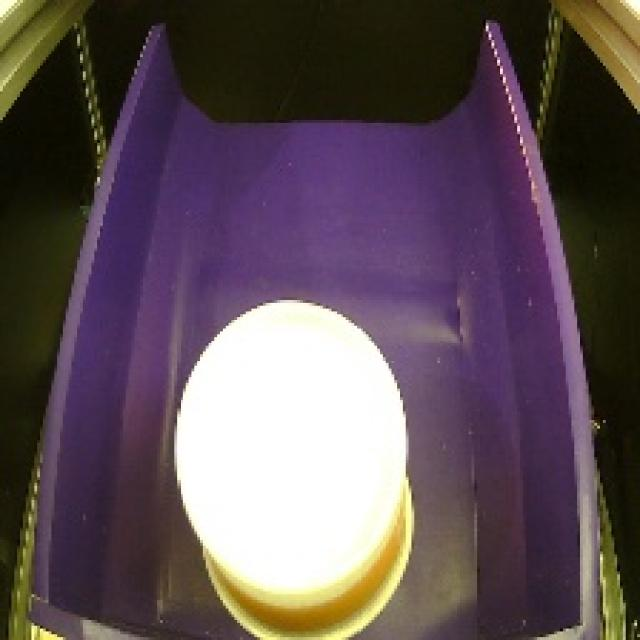cups: (156, 290, 428, 640)
